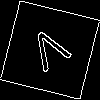V: (25, 25, 78, 81)
